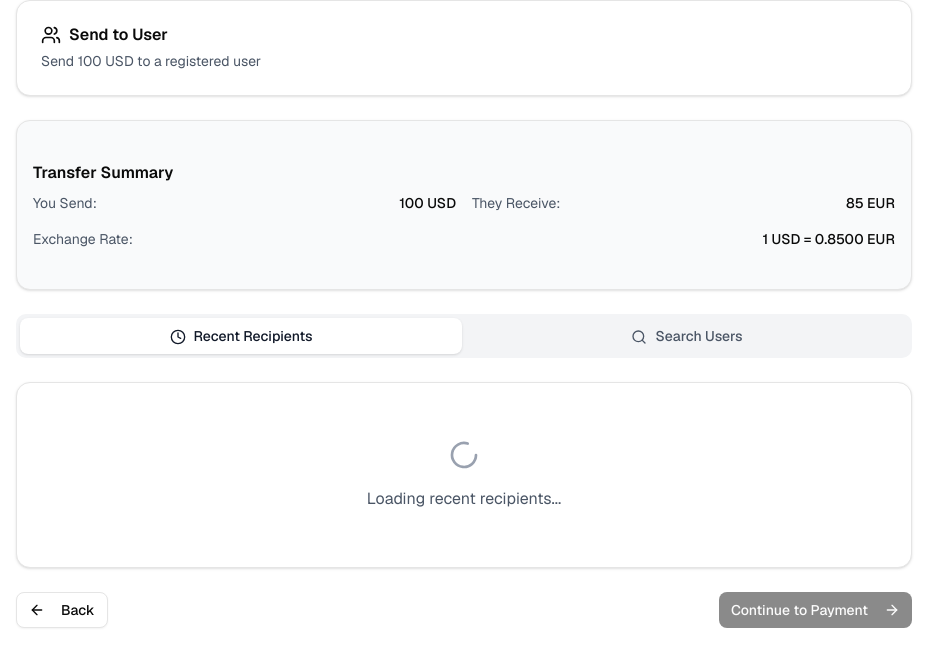
Test case: UserRecipientSelector › shows loading state while searching
Note: Switch to search tab
Click the button "Search Users".
click(687, 336)  # box [466,318,908,354]
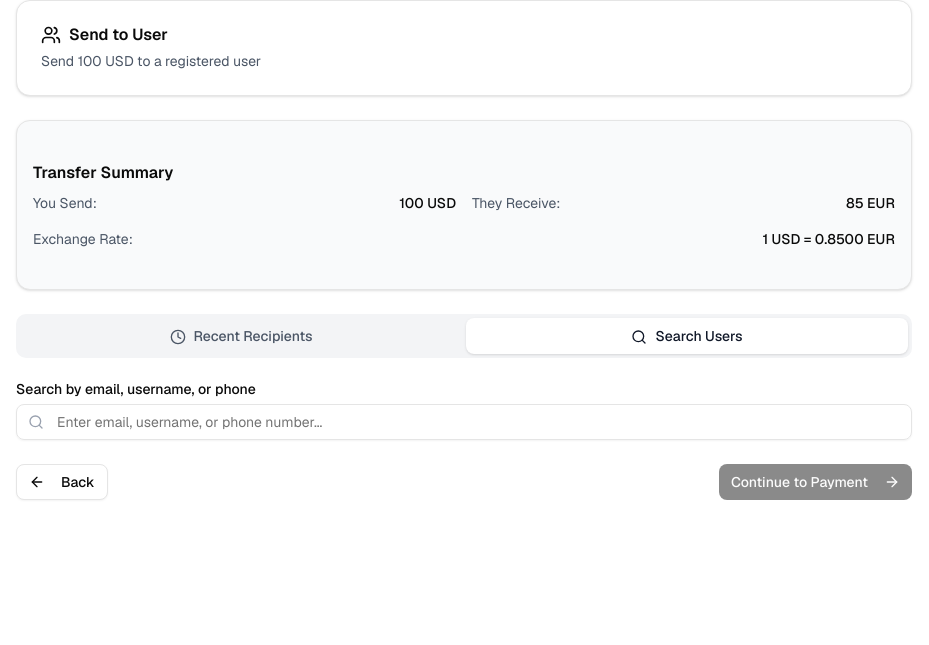
Note: Type in search input
Type "john" into the field with placeholder "Enter email, username, or phone number...".
click(464, 422); type("john")  # box [16,404,912,440]
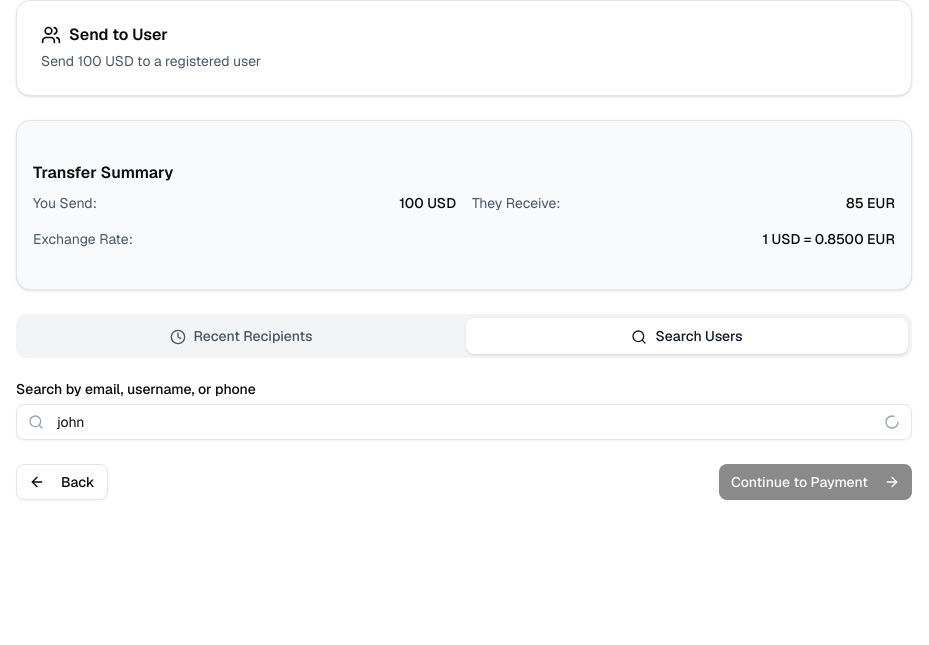
Now the icon with class "animate-spin" is shown, box [884,414,900,430]
